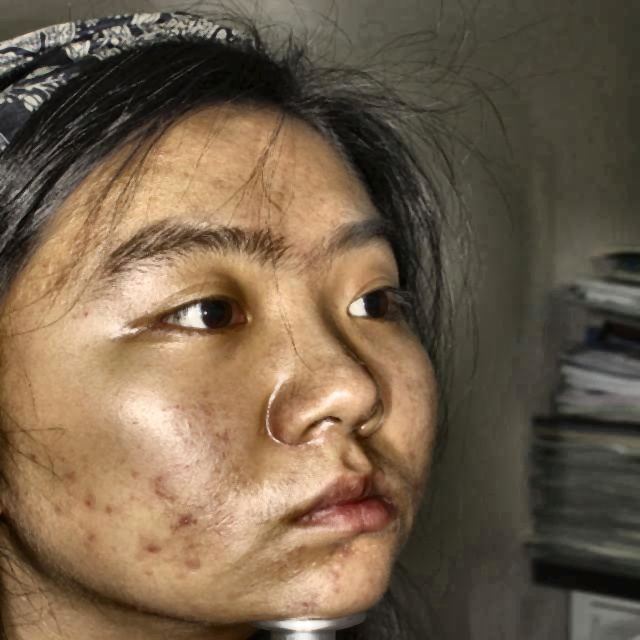pustule: (76, 526, 105, 553), (78, 489, 108, 510), (183, 550, 202, 580), (147, 536, 169, 560), (60, 461, 86, 478), (297, 591, 317, 613), (180, 512, 197, 530)
